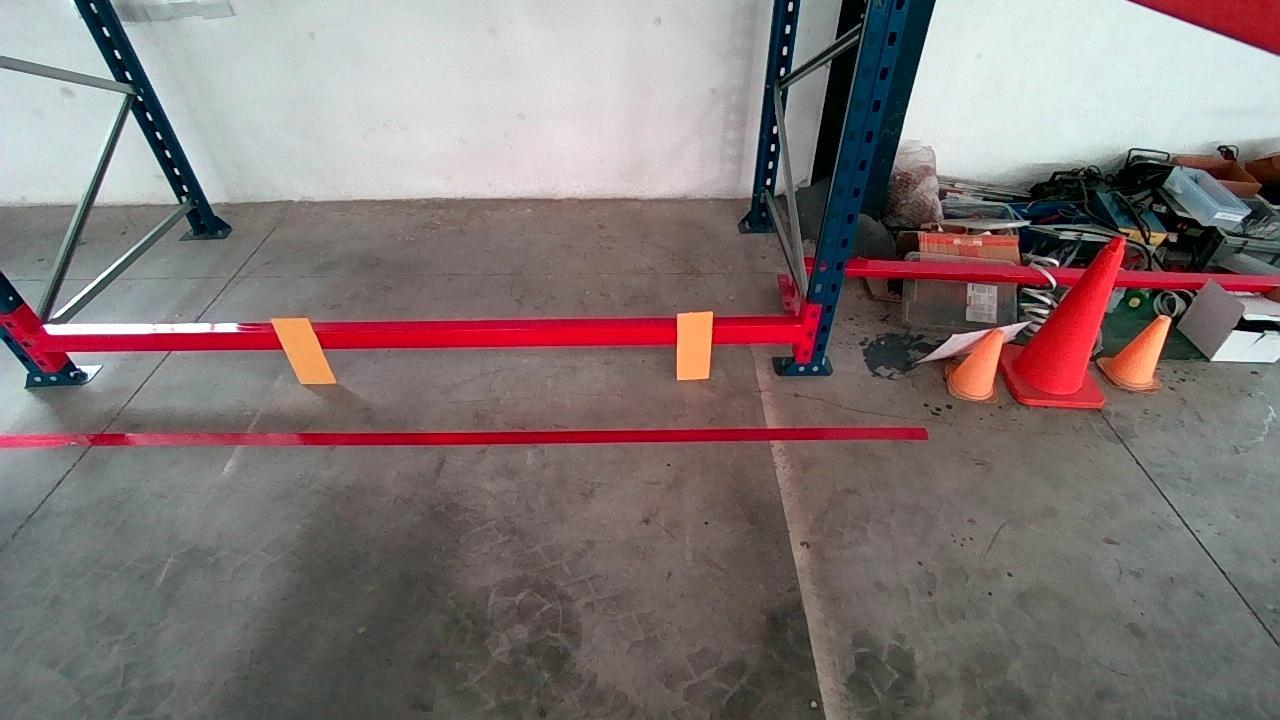h_rack: (45, 318, 801, 350)
orange_strip: (272, 317, 334, 383), (676, 310, 713, 378)
red_line: (0, 425, 929, 450)
